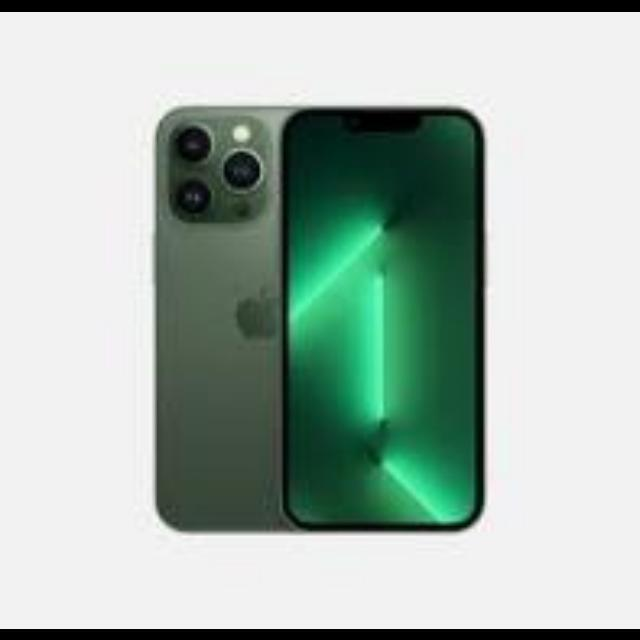PhoneUse: (284, 100, 491, 532), (154, 104, 282, 528)
